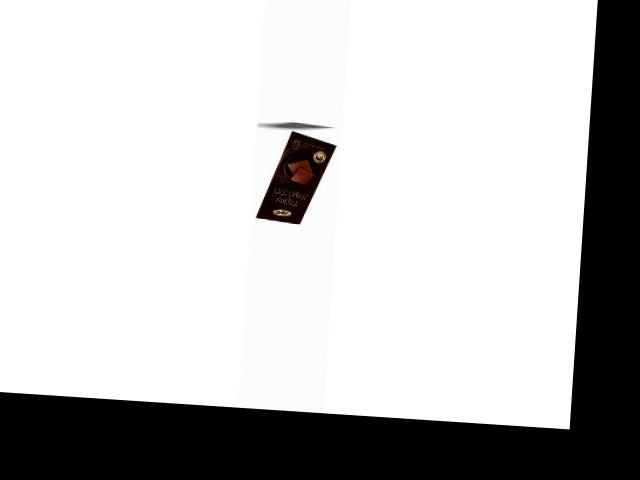chocolate: (254, 125, 339, 228)
